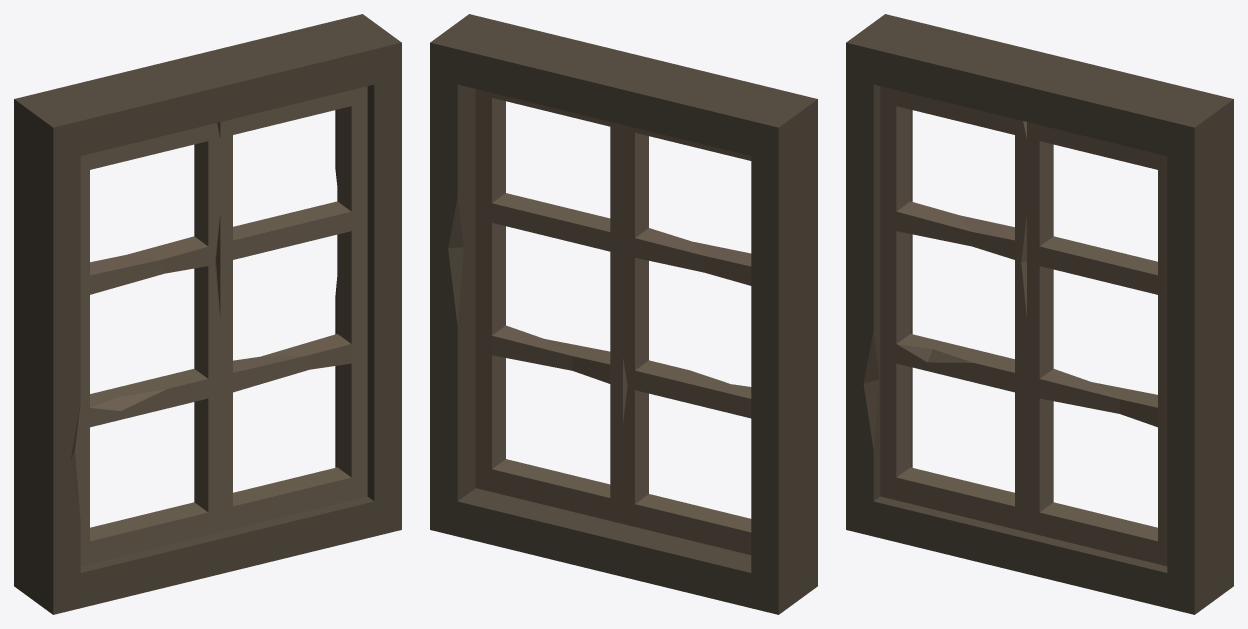
Rendered from SM_Bld_Village_Window_02.fbx.
The picture shows the model from 3 angles, left to right: view 1: azimuth 30°, elevation 25°; view 2: azimuth 150°, elevation 25°; view 3: azimuth 330°, elevation 25°; orthographic projection.
Visible parts, largest first — view 1: SM_Bld_Village_Window_02, SM_Bld_Village_Window_Fold_L_02, SM_Bld_Village_Window_Fold_R_02; view 2: SM_Bld_Village_Window_02, SM_Bld_Village_Window_Fold_L_02, SM_Bld_Village_Window_Fold_R_02; view 3: SM_Bld_Village_Window_02, SM_Bld_Village_Window_Fold_R_02, SM_Bld_Village_Window_Fold_L_02.
Part boxes in pixels (<box>): SM_Bld_Village_Window_02: <box>14,14,401,614</box>; SM_Bld_Village_Window_Fold_L_02: <box>216,86,367,532</box>; SM_Bld_Village_Window_Fold_R_02: <box>75,123,220,566</box>; SM_Bld_Village_Window_02: <box>430,14,817,614</box>; SM_Bld_Village_Window_Fold_L_02: <box>475,89,627,523</box>; SM_Bld_Village_Window_Fold_R_02: <box>623,125,751,554</box>; SM_Bld_Village_Window_02: <box>846,14,1233,614</box>; SM_Bld_Village_Window_Fold_R_02: <box>880,86,1026,531</box>; SM_Bld_Village_Window_Fold_L_02: <box>1027,122,1167,566</box>.
Bounding box in the file's own units: 119 × 159 × 23.14.
